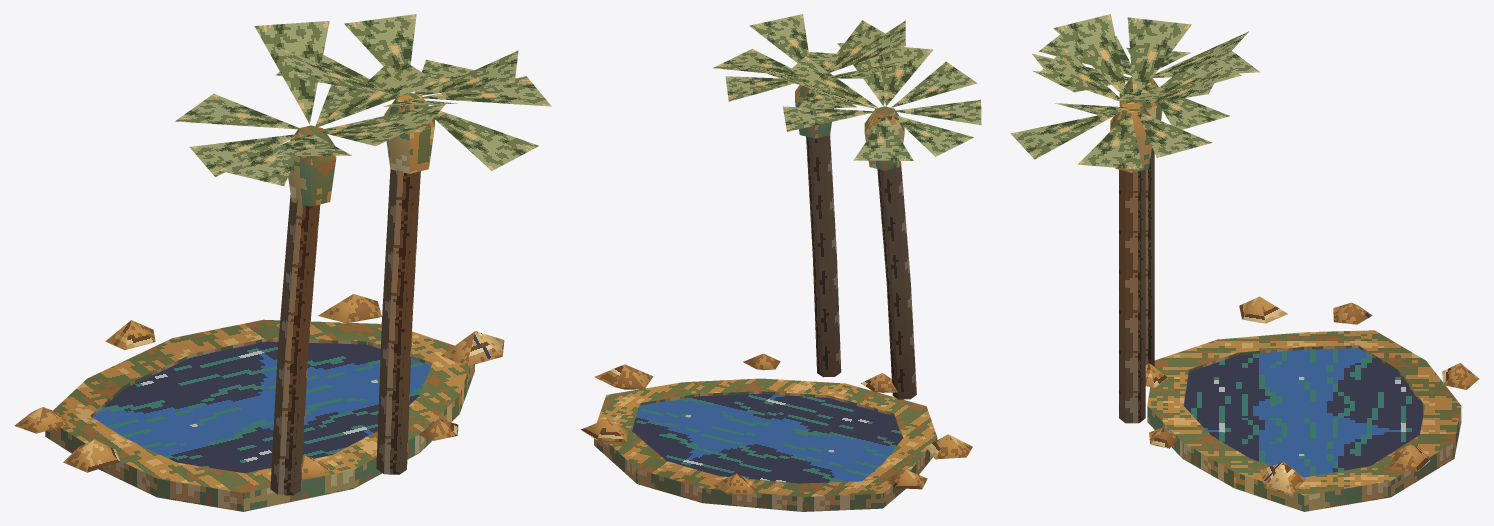
Rendered from wland.oasis.glb.
3 renders of one model, left to right at view 1: azimuth 30°, elevation 25°; view 2: azimuth 150°, elevation 25°; view 3: azimuth 270°, elevation 25°, orthographic. The views are drawn at different scales.
Parts seen in each view (by area): view 1: kit_card_fronds_back, kit_water, kit_bank, kit_trunks, kit_rocks, kit_skirts; view 2: kit_water, kit_card_fronds_back, kit_bank, kit_trunks, kit_rocks, kit_skirts; view 3: kit_water, kit_card_fronds_back, kit_bank, kit_trunks, kit_rocks, kit_skirts.
Part boxes in pixels (box(x1,y1,x2,y2)): kit_card_fronds_back: box(175, 14, 551, 185); kit_water: box(92, 341, 431, 473); kit_bank: box(45, 319, 474, 511); kit_trunks: box(270, 100, 420, 495); kit_rocks: box(14, 294, 504, 480); kit_skirts: box(288, 93, 434, 206); kit_water: box(632, 393, 902, 483); kit_card_fronds_back: box(713, 14, 981, 160); kit_bank: box(594, 378, 937, 511); kit_trunks: box(806, 112, 916, 399); kit_rocks: box(581, 353, 972, 495); kit_skirts: box(795, 85, 904, 170); kit_water: box(1184, 348, 1424, 477); kit_card_fronds_back: box(1010, 14, 1260, 169); kit_bank: box(1147, 330, 1461, 511); kit_trunks: box(1119, 81, 1154, 423); kit_rocks: box(1145, 296, 1479, 494); kit_skirts: box(1110, 77, 1162, 172).
Bounding box in the file's own units: 7.58 × 7.03 × 7.77.
Materials: 6 (6 with a texture image).
